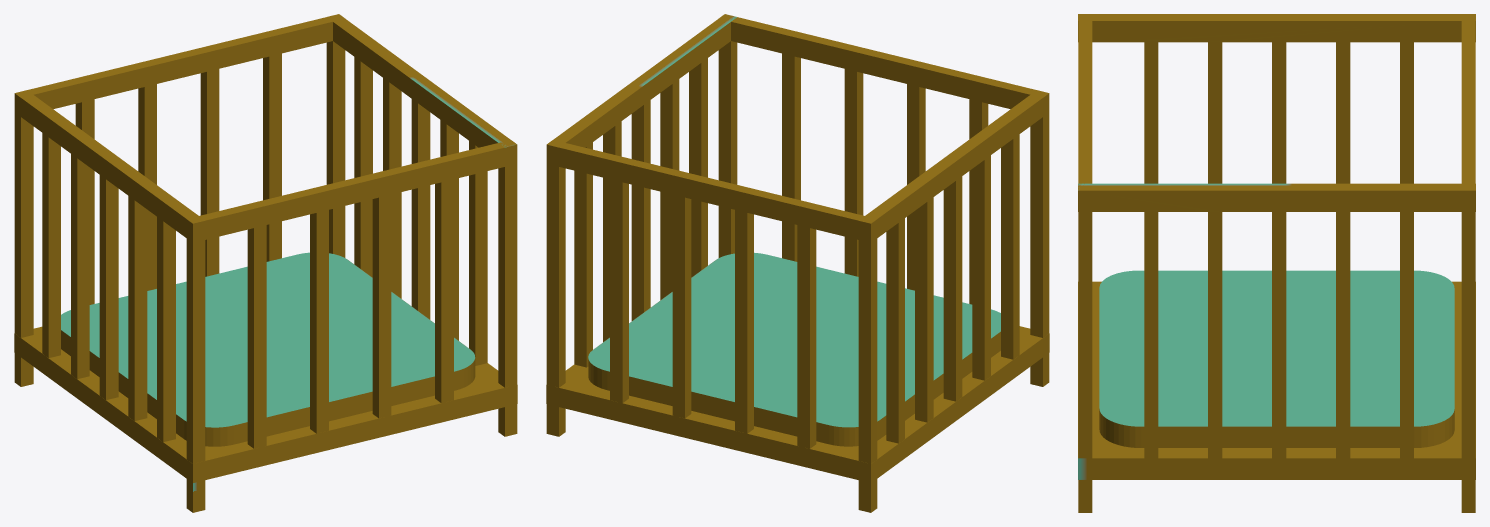
File: Corralito.obj
3 renders of one model, left to right at view 1: azimuth 30°, elevation 25°; view 2: azimuth 150°, elevation 25°; view 3: azimuth 270°, elevation 25°, orthographic. The views are drawn at different scales.
Parts seen in each view (by area): view 1: Cube.010_Cube.048; view 2: Cube.010_Cube.048; view 3: Cube.010_Cube.048.
Part boxes in pixels (x1,y1,x2,y2): Cube.010_Cube.048: [14, 14, 517, 512]; Cube.010_Cube.048: [546, 14, 1049, 512]; Cube.010_Cube.048: [1078, 14, 1475, 512].
Size of the model in its own units: 10.45 by 8.9 by 9.95.
